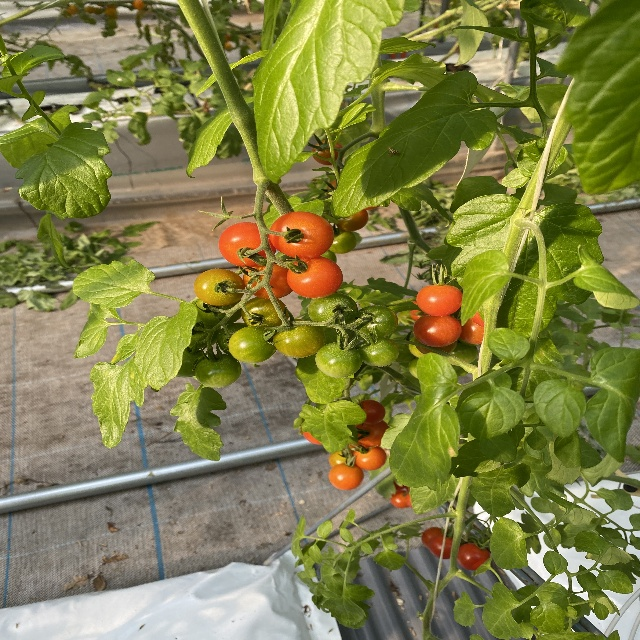l_fully_ripened: (268, 211, 335, 259), (218, 222, 276, 268), (287, 256, 343, 299), (413, 315, 462, 348), (416, 285, 462, 317), (353, 420, 390, 447), (457, 543, 491, 570), (357, 399, 386, 425), (421, 527, 451, 549), (429, 536, 453, 559)
l_green: (308, 293, 359, 329), (228, 326, 277, 363), (316, 341, 363, 378), (194, 354, 242, 388), (190, 296, 243, 326), (354, 306, 398, 339), (356, 337, 400, 367), (187, 317, 222, 348), (217, 323, 248, 355), (176, 347, 205, 378), (445, 341, 478, 366), (327, 231, 357, 254)
l_half_ripened: (273, 319, 326, 359), (242, 258, 293, 299), (193, 268, 246, 306), (241, 297, 289, 331), (328, 462, 364, 490), (352, 445, 387, 471), (414, 337, 458, 357), (312, 139, 344, 165), (335, 210, 370, 232), (460, 318, 484, 344), (329, 449, 354, 467)
